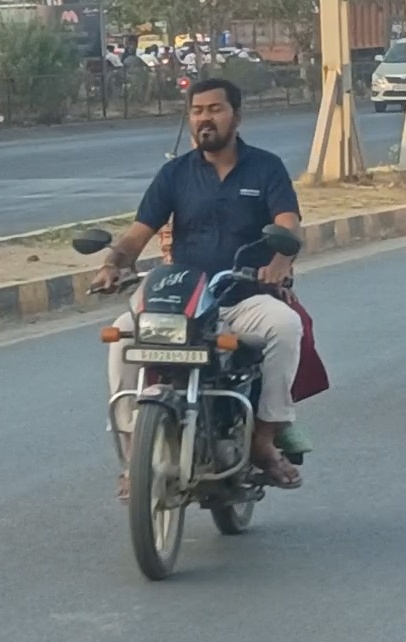BikeWithRider: (64, 71, 337, 586)
NoHelmet: (179, 72, 251, 154)
